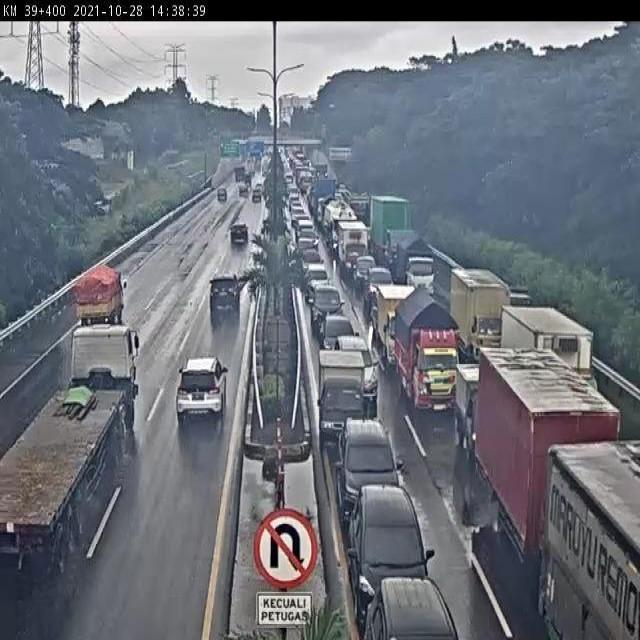big truck: (0, 331, 130, 620), (470, 352, 619, 596), (554, 448, 636, 632)
car: (355, 488, 432, 585), (337, 414, 410, 509), (169, 352, 235, 443), (373, 580, 442, 640), (339, 328, 376, 401), (204, 278, 242, 334), (324, 316, 358, 353), (314, 285, 343, 324), (370, 266, 396, 302)
small truck: (499, 298, 588, 426), (383, 285, 468, 384), (397, 285, 457, 415), (449, 264, 509, 359), (319, 348, 363, 449), (398, 236, 441, 303), (73, 271, 119, 332), (229, 224, 249, 251)
